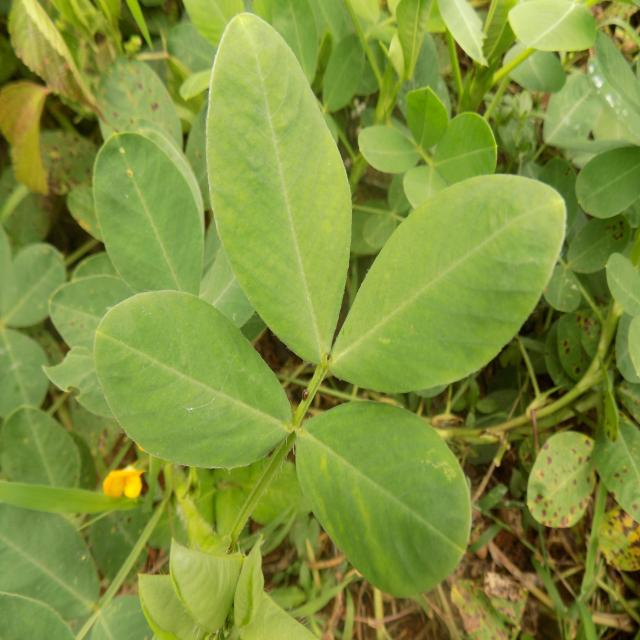Ground nut_healthy: (328, 172, 574, 392), (205, 17, 351, 368), (93, 290, 300, 460), (300, 394, 476, 588), (95, 133, 205, 300), (359, 122, 428, 186)
Ground nut_tikka leaf spot: (95, 52, 185, 173), (524, 432, 596, 530)
